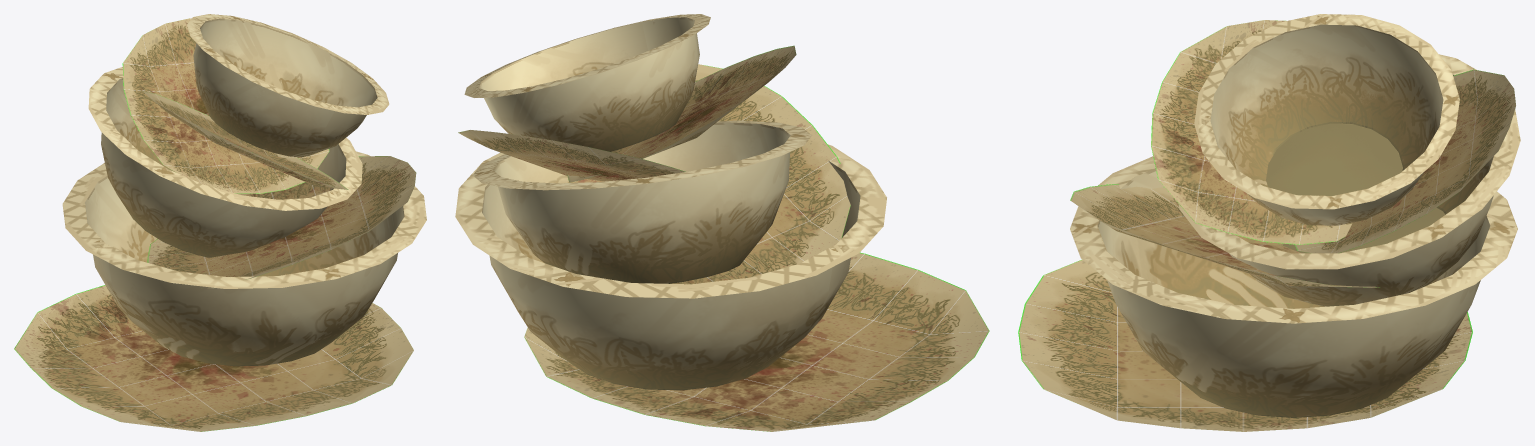
Rendered from plates_and_bowls.FBX.
3 renders of one model, left to right at view 1: azimuth 30°, elevation 25°; view 2: azimuth 150°, elevation 25°; view 3: azimuth 270°, elevation 25°, orthographic. The views are drawn at different scales.
Visible parts, largest first — view 1: Plane003; view 2: Plane003; view 3: Plane003.
Boxes of the visible parts, x1=… form: Plane003: x1=14, y1=14, x2=426, y2=431; Plane003: x1=455, y1=14, x2=989, y2=431; Plane003: x1=1018, y1=14, x2=1520, y2=431.
Size of the model in its own units: 41.39 by 30.44 by 39.57.
